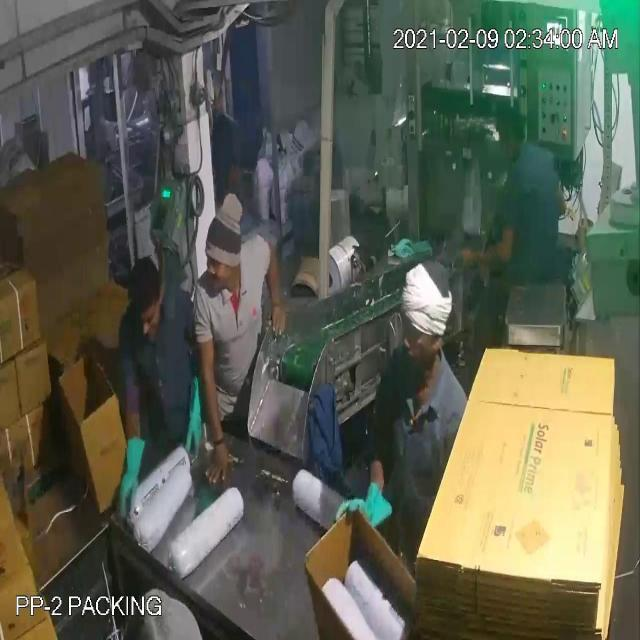Gloves: (27, 62, 488, 516)
